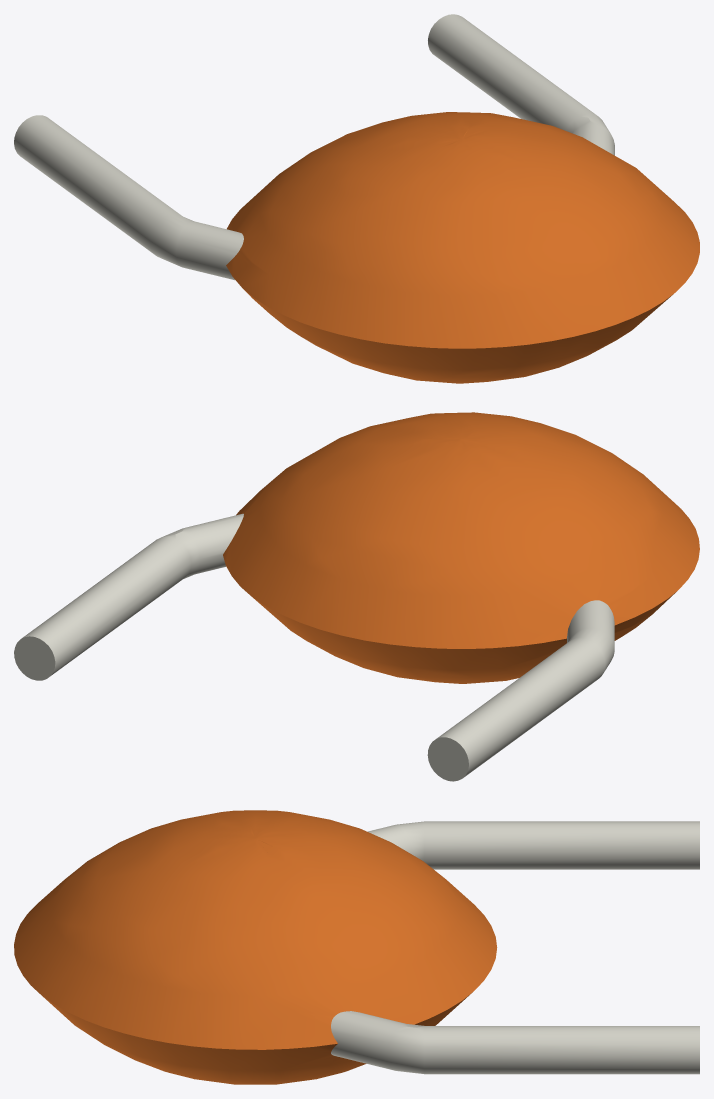
Rendered from c-disc-d5.0-w2.5-p5.00.glb.
3 renders of one model, top to bottom at view 1: azimuth 30°, elevation 25°; view 2: azimuth 150°, elevation 25°; view 3: azimuth 270°, elevation 25°, orthographic.
Visible parts, largest first — view 1: PLASTIC-ORANGE-01, PIN-01; view 2: PLASTIC-ORANGE-01, PIN-01; view 3: PLASTIC-ORANGE-01, PIN-01.
Boxes of the visible parts, x1,y1,x2,y2 form: PLASTIC-ORANGE-01: (226, 112, 699, 383); PIN-01: (14, 14, 614, 280); PLASTIC-ORANGE-01: (223, 412, 699, 683); PIN-01: (14, 513, 614, 781); PLASTIC-ORANGE-01: (14, 810, 497, 1084); PIN-01: (331, 821, 699, 1074).
Bounding box in the file's own units: 5.5 × 2.5 × 7.1.
